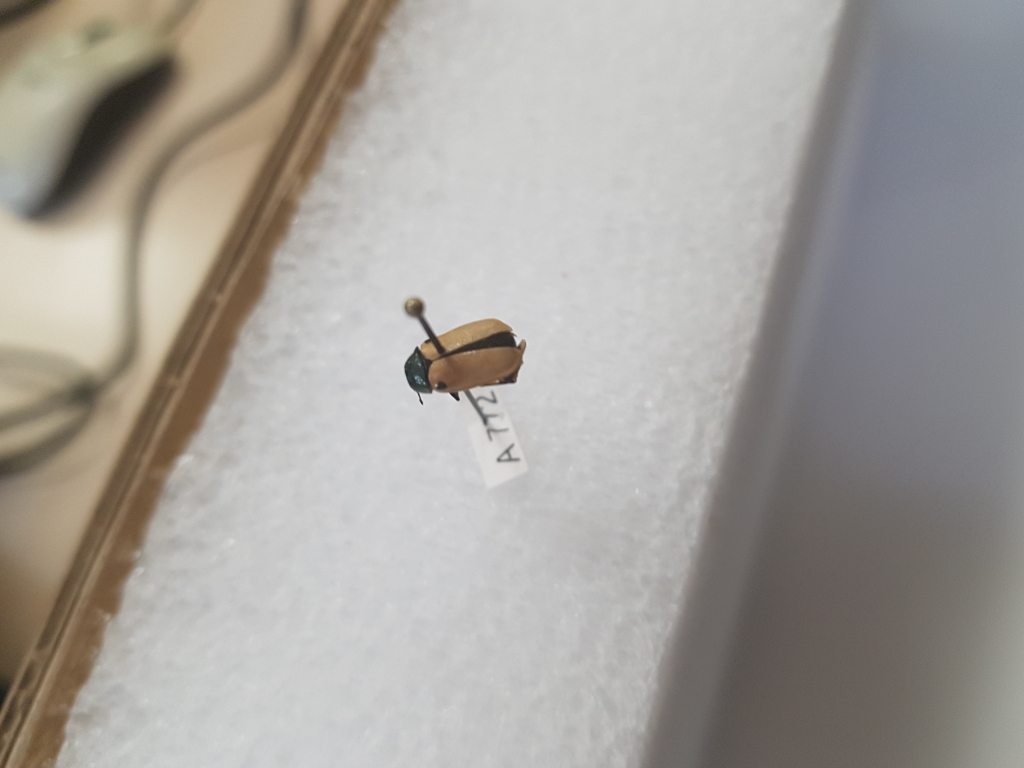Labidostomis_propinqua: (396, 315, 537, 400)
